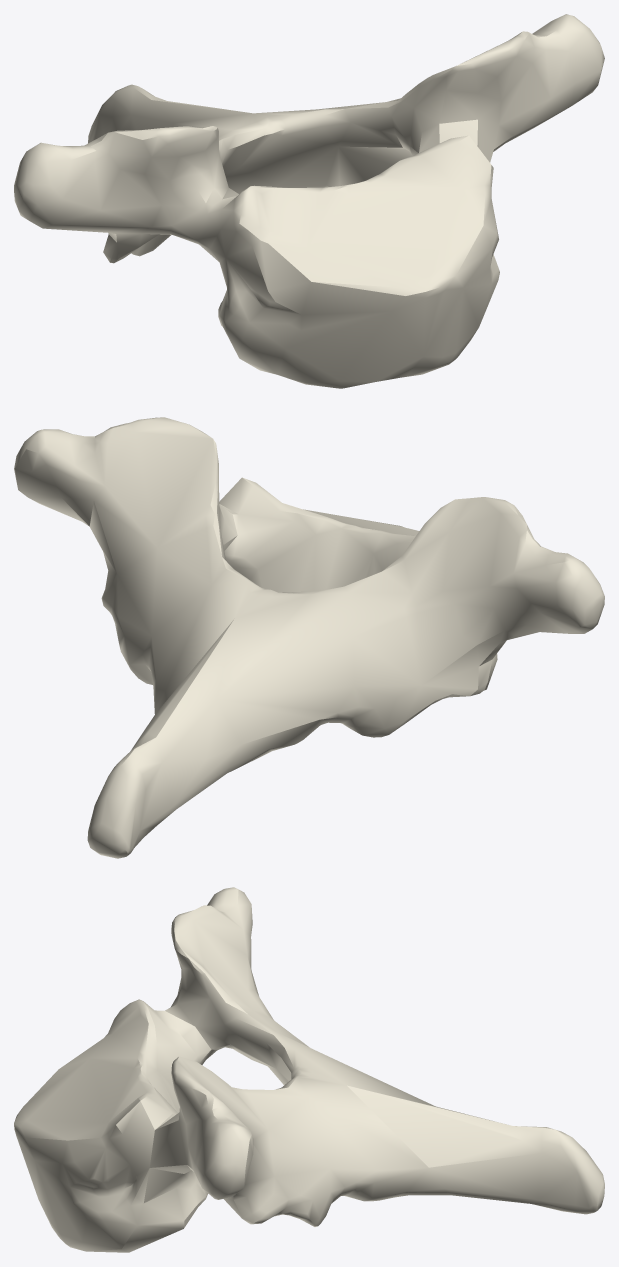
The model's file is fma9165_fj3158.glb.
3 views of the same model, one above another, from view 1: azimuth 30°, elevation 25°; view 2: azimuth 150°, elevation 25°; view 3: azimuth 270°, elevation 25° (orthographic). The views are drawn at different scales.
Visible parts, largest first — view 1: FMA9165_FJ3158; view 2: FMA9165_FJ3158; view 3: FMA9165_FJ3158.
Boxes of the visible parts, left/top/right/bottom form: FMA9165_FJ3158: left=14, top=14, right=604, bottom=388; FMA9165_FJ3158: left=14, top=417, right=604, bottom=858; FMA9165_FJ3158: left=14, top=887, right=604, bottom=1252.
Bounding box in the file's own units: 0.0733 × 0.0297 × 0.0698.
